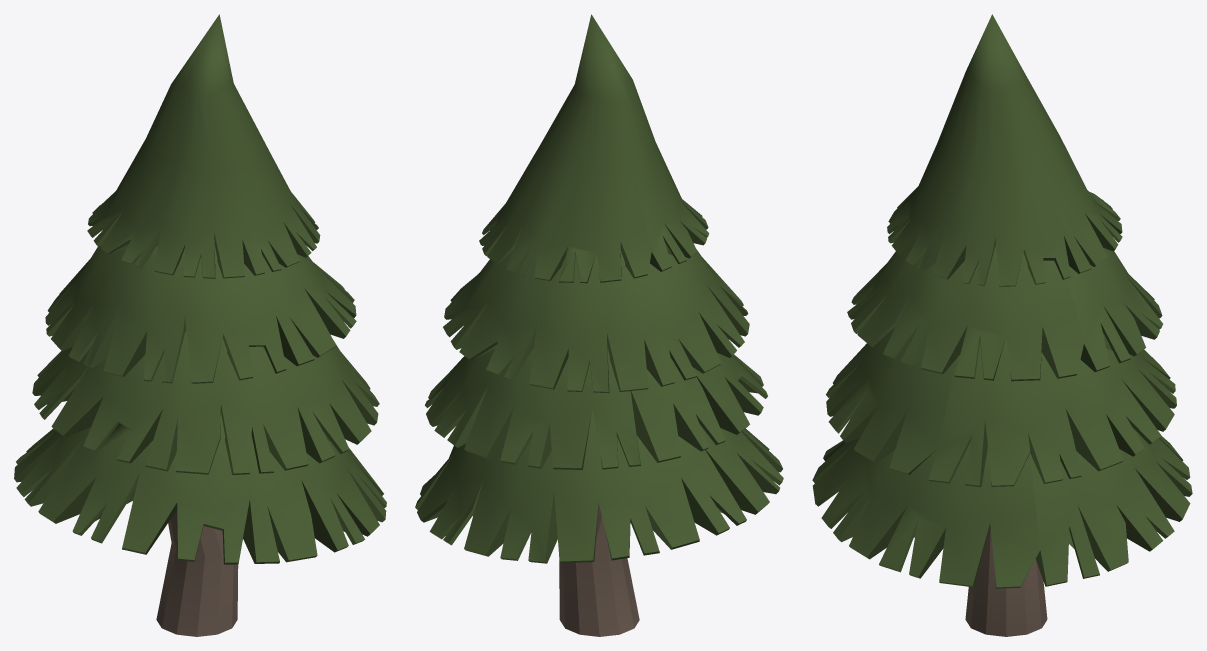
File: DennenboomHoog1.fbx
3 renders of one model, left to right at view 1: azimuth 30°, elevation 25°; view 2: azimuth 150°, elevation 25°; view 3: azimuth 270°, elevation 25°, orthographic. The views are drawn at different scales.
Parts seen in each view (by area): view 1: polySurface3173; view 2: polySurface3173; view 3: polySurface3173.
Part boxes in pixels (x1,y1,x2,y2): polySurface3173: (14, 14, 386, 636); polySurface3173: (415, 14, 783, 636); polySurface3173: (812, 14, 1192, 636).
Size of the model in its own units: 6.38 by 11.45 by 6.43.
